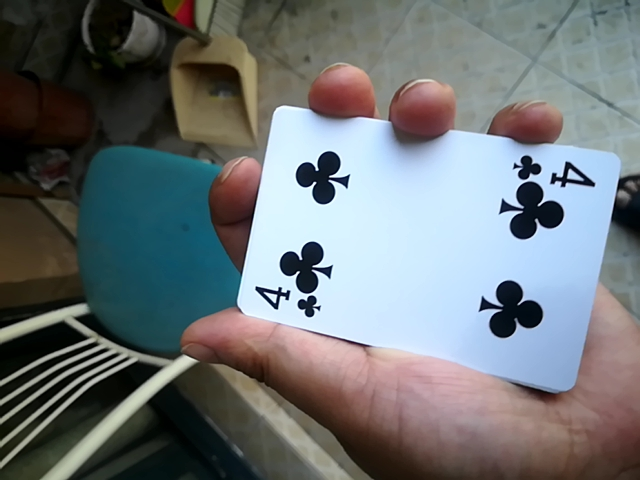mh 4: (224, 100, 608, 384)
